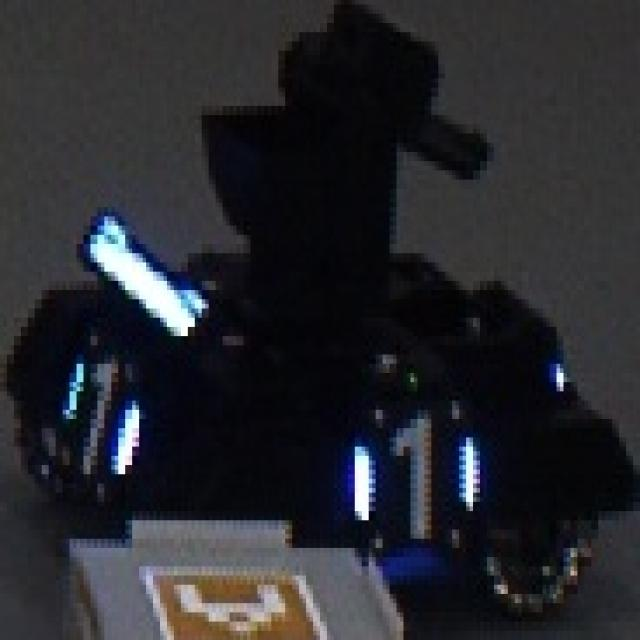B1: (348, 410, 476, 534), (63, 336, 146, 479)
